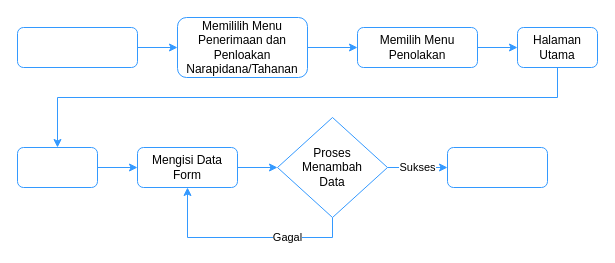
Image size: 615x263. Some labels were removed from this diagram. Here are the shapes that lost their labels. From the top down, the centre of each, then its label:
At point (77, 47): "Memilih Menu Registrasi".
At point (57, 167): "Tambah".
At point (497, 167): "Kembali Ke Halaman Utama".
